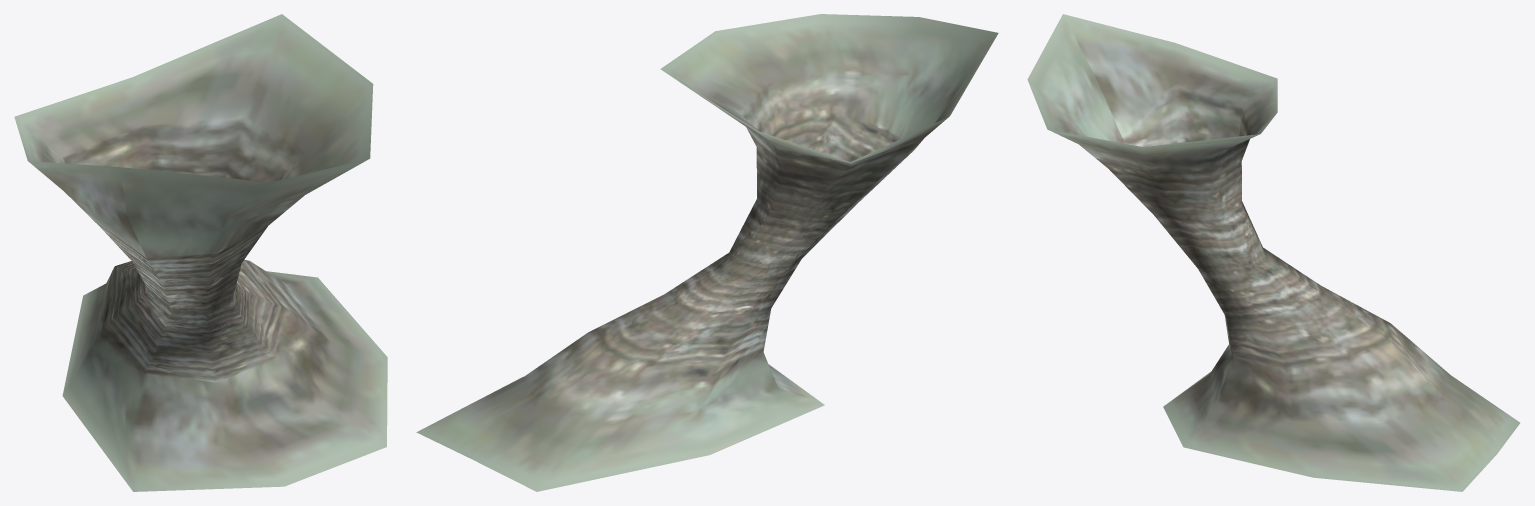
File: TROLLHOLE02_PS-SECRETSTALAG08.fbx
3 renders of one model, left to right at view 1: azimuth 30°, elevation 25°; view 2: azimuth 150°, elevation 25°; view 3: azimuth 270°, elevation 25°, orthographic. The views are drawn at different scales.
Visible parts, largest first — view 1: TROLLHOLE02_PS-SECRETSTALAG08; view 2: TROLLHOLE02_PS-SECRETSTALAG08; view 3: TROLLHOLE02_PS-SECRETSTALAG08.
Part boxes in pixels (bbox=[...]): TROLLHOLE02_PS-SECRETSTALAG08: bbox=[14, 14, 387, 491]; TROLLHOLE02_PS-SECRETSTALAG08: bbox=[416, 14, 998, 491]; TROLLHOLE02_PS-SECRETSTALAG08: bbox=[1027, 14, 1520, 491].
Bounding box in the file's own units: 55284 × 46596 × 66633.
Materials: 1 (1 with a texture image).
